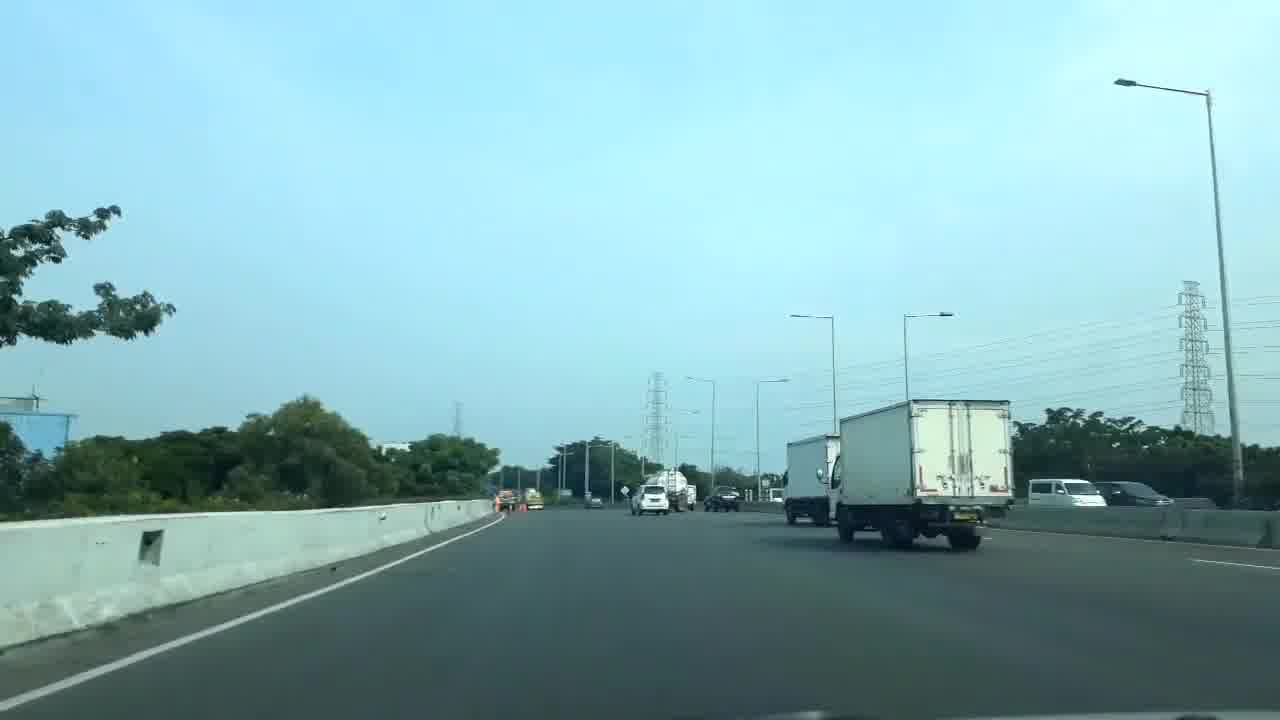plate_positive: (953, 510, 978, 520), (650, 499, 660, 502)
